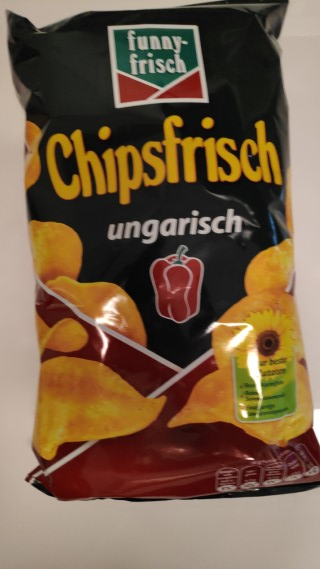chipsfrisch: (4, 1, 320, 503)
